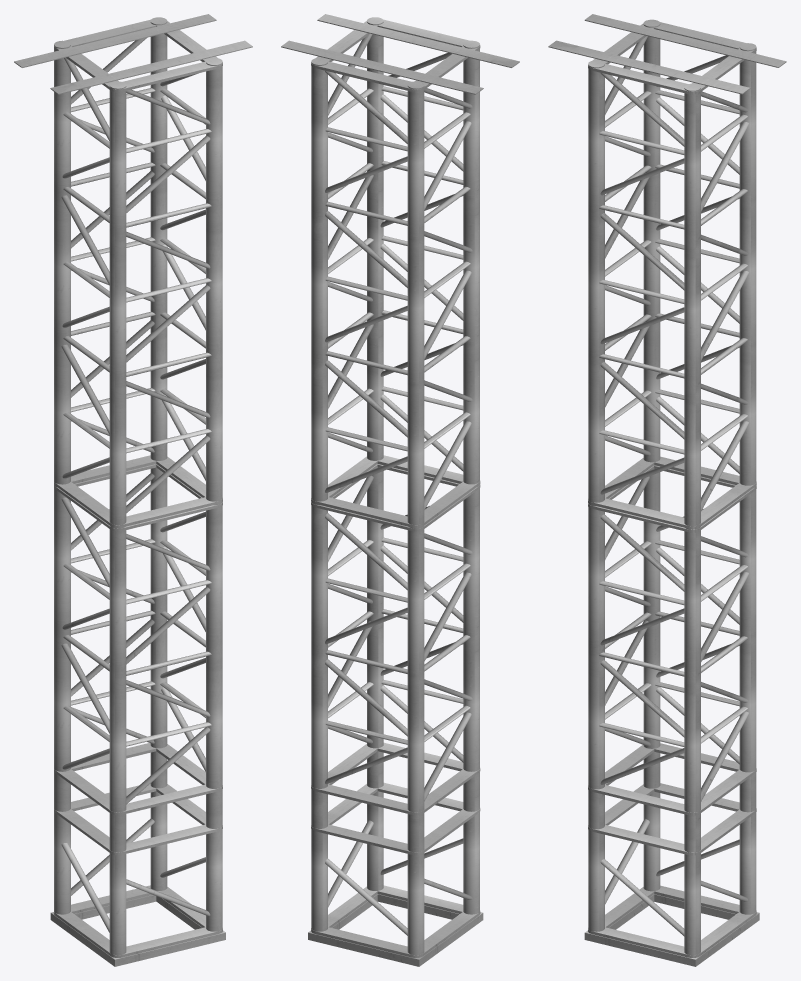
The picture shows the model from 3 angles, left to right: view 1: azimuth 30°, elevation 25°; view 2: azimuth 150°, elevation 25°; view 3: azimuth 330°, elevation 25°; orthographic projection.
Parts seen in each view (by area): view 1: 562040; view 2: 562040; view 3: 562040.
Part boxes in pixels (box(x1,y1,x2,y2)): 562040: box(14, 14, 252, 966); 562040: box(281, 14, 519, 966); 562040: box(548, 14, 786, 966).
Size of the model in its own units: 0.7 by 3.02 by 0.4.
1 material, 1 textured.
